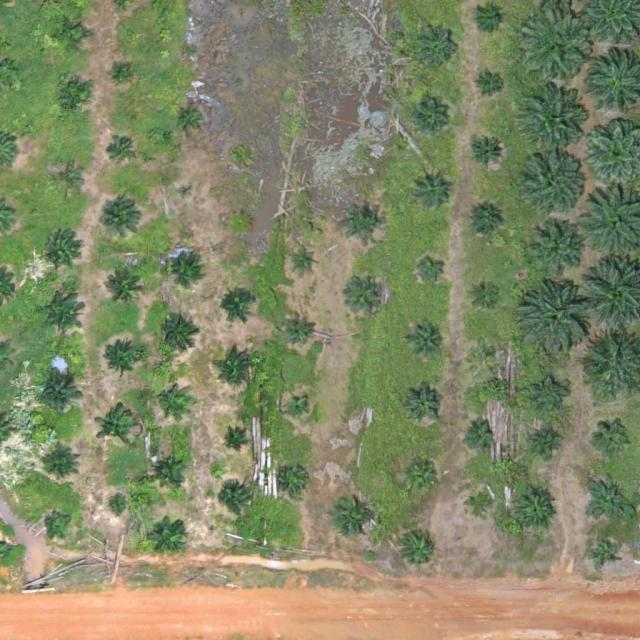Healthy: (517, 279, 595, 358), (522, 15, 593, 86), (518, 89, 588, 160), (522, 150, 584, 213), (528, 223, 583, 278), (95, 405, 142, 453)
Small: (39, 291, 86, 339), (97, 199, 144, 247), (100, 342, 147, 389), (38, 374, 85, 421), (102, 263, 149, 310), (332, 493, 379, 540), (414, 22, 461, 69), (512, 487, 559, 534), (585, 476, 632, 523), (343, 202, 383, 242), (165, 247, 205, 287), (150, 450, 190, 490), (400, 530, 440, 570), (350, 275, 390, 314), (219, 348, 258, 388), (158, 315, 198, 354), (43, 447, 82, 487), (405, 385, 444, 425), (530, 377, 569, 417), (595, 420, 634, 460), (400, 457, 440, 496), (219, 286, 258, 325), (44, 231, 83, 270), (55, 78, 94, 117), (151, 516, 190, 555), (412, 102, 451, 141), (412, 171, 451, 210), (405, 320, 444, 359), (466, 203, 505, 242), (468, 133, 507, 172), (54, 16, 93, 55), (534, 426, 565, 458), (590, 539, 621, 571), (470, 276, 501, 308), (470, 337, 501, 369), (463, 417, 494, 449), (417, 252, 448, 284), (46, 509, 77, 541), (473, 2, 504, 34), (106, 136, 137, 168), (156, 383, 187, 414), (220, 485, 251, 516), (282, 465, 313, 496), (466, 490, 497, 521), (283, 314, 314, 345), (53, 165, 84, 196), (476, 70, 507, 101), (177, 104, 208, 135), (294, 250, 318, 274), (287, 399, 311, 423), (105, 495, 129, 519), (229, 212, 253, 236), (222, 430, 245, 454), (114, 65, 130, 81), (179, 184, 195, 199)
